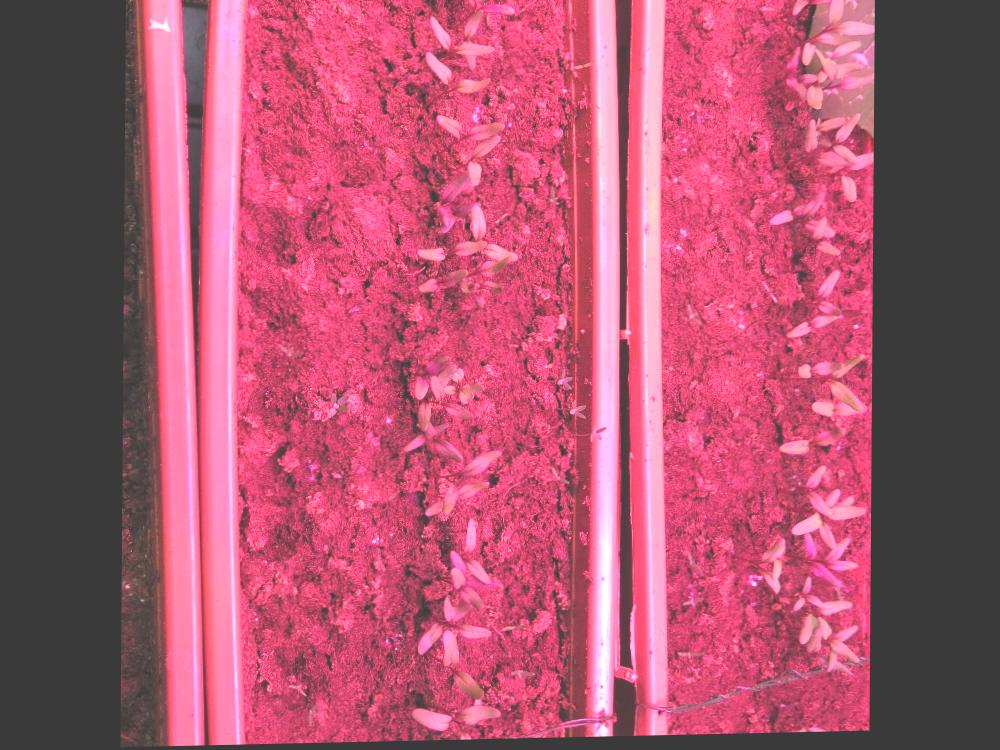crop: (778, 429, 845, 458)
weed: (327, 392, 353, 419), (684, 551, 706, 579), (686, 304, 708, 331), (306, 702, 328, 728), (556, 369, 578, 392), (569, 399, 591, 421), (278, 343, 308, 359), (550, 465, 572, 486), (510, 667, 543, 681), (588, 426, 608, 446), (546, 186, 562, 208), (675, 651, 710, 661), (503, 624, 531, 634), (572, 62, 598, 71)
